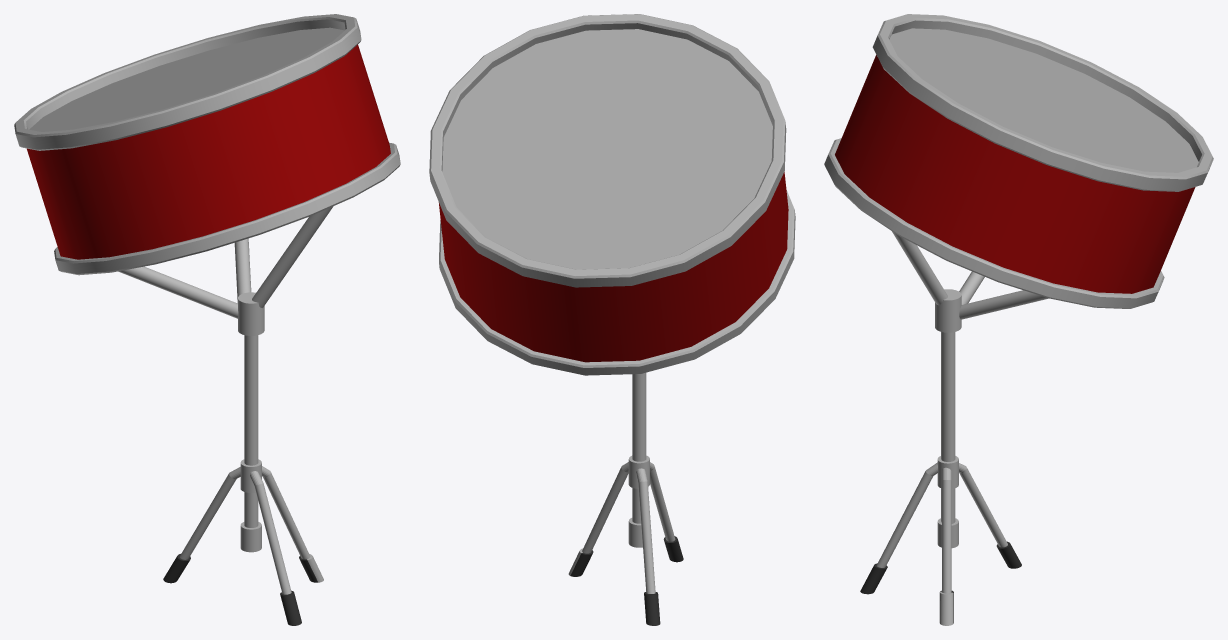
The model's file is snare.fbx.
The picture shows the model from 3 angles, left to right: view 1: azimuth 30°, elevation 25°; view 2: azimuth 150°, elevation 25°; view 3: azimuth 270°, elevation 25°; orthographic projection.
Parts seen in each view (by area): view 1: pCylinder10, pCylinder40; view 2: pCylinder10, pCylinder40; view 3: pCylinder10, pCylinder40.
Boxes of the visible parts, box(x1,y1,x2,y2) form: pCylinder10: box(14, 14, 400, 275); pCylinder40: box(118, 206, 333, 625); pCylinder10: box(429, 14, 795, 375); pCylinder40: box(568, 372, 683, 625); pCylinder10: box(824, 14, 1213, 308); pCylinder40: box(860, 231, 1048, 625).
Bounding box in the file's own units: 11.94 × 19.22 × 12.32.
